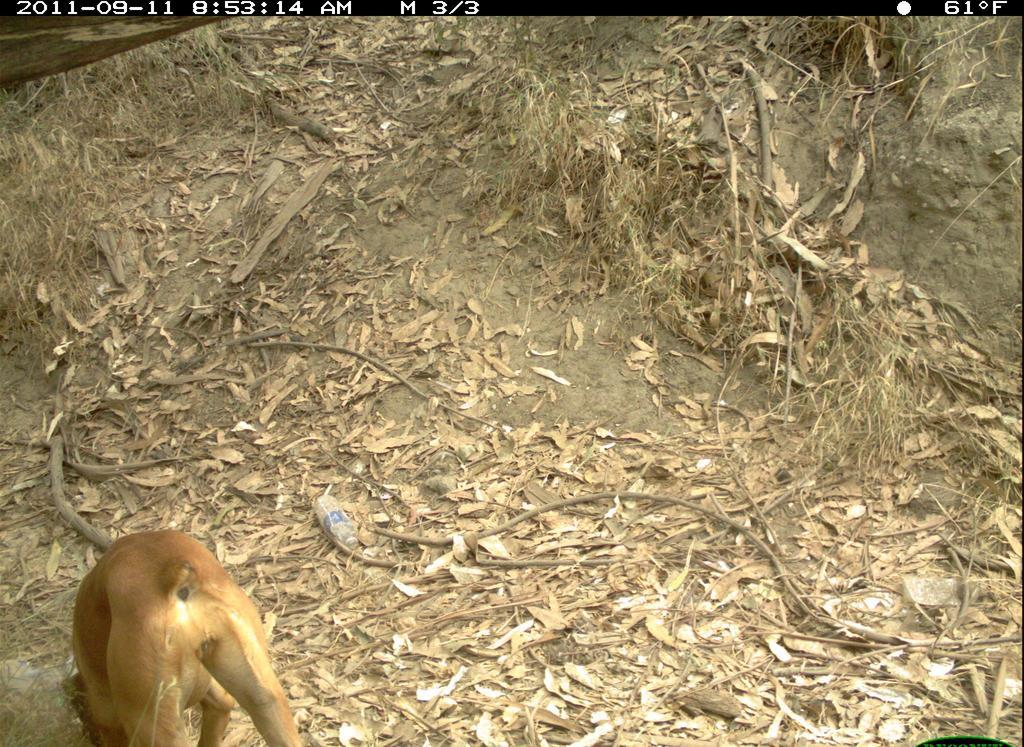dog: (25, 469, 309, 745)
